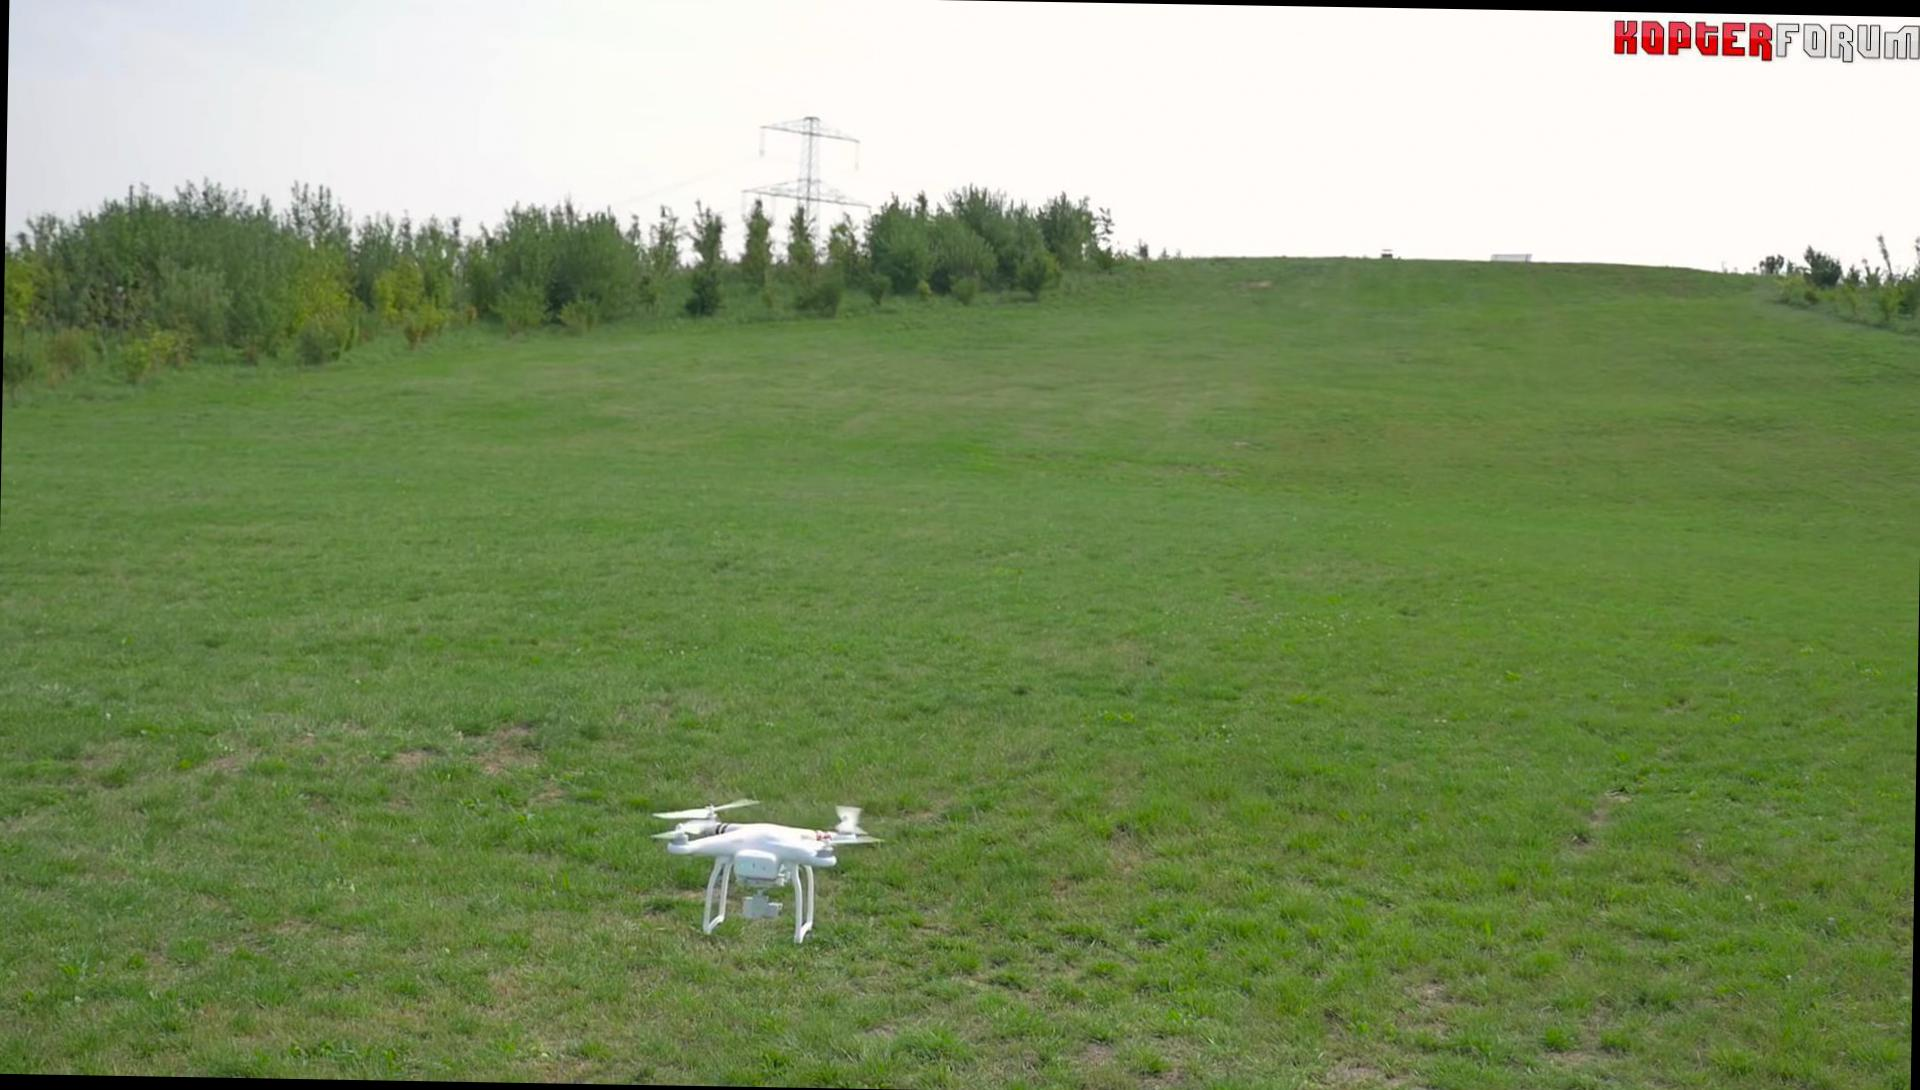drone: (646, 789, 887, 945)
